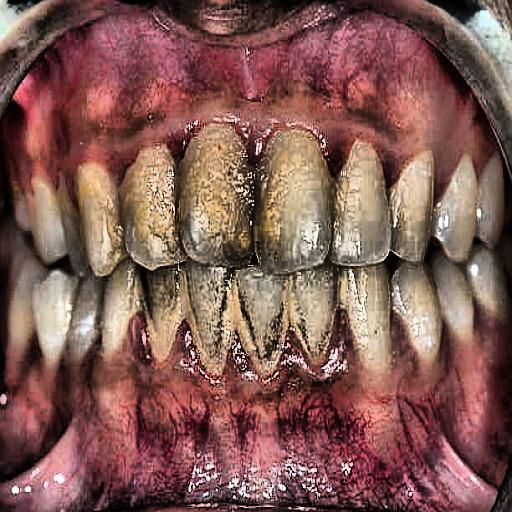Calculus: (11, 126, 353, 264), (102, 270, 416, 383)
